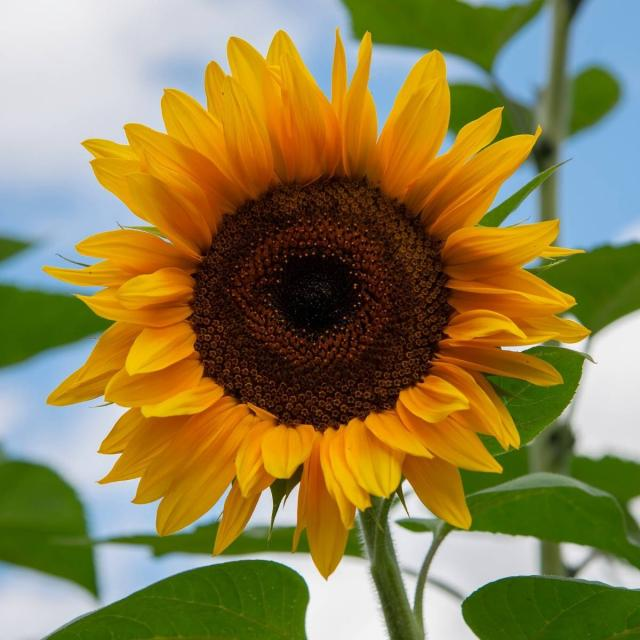sunflower: (40, 14, 597, 583)
